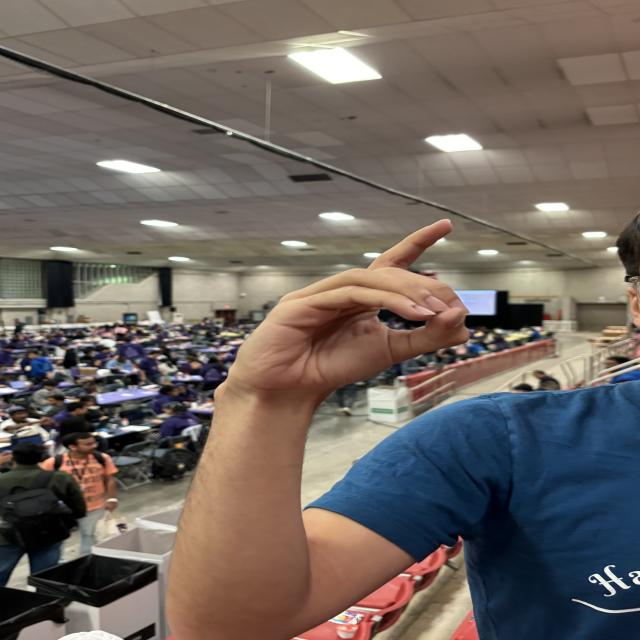D: (210, 201, 514, 400)
